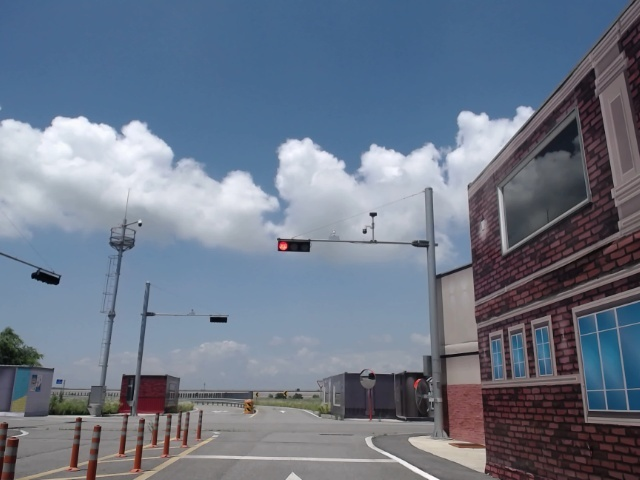red_3: (276, 238, 311, 254)
